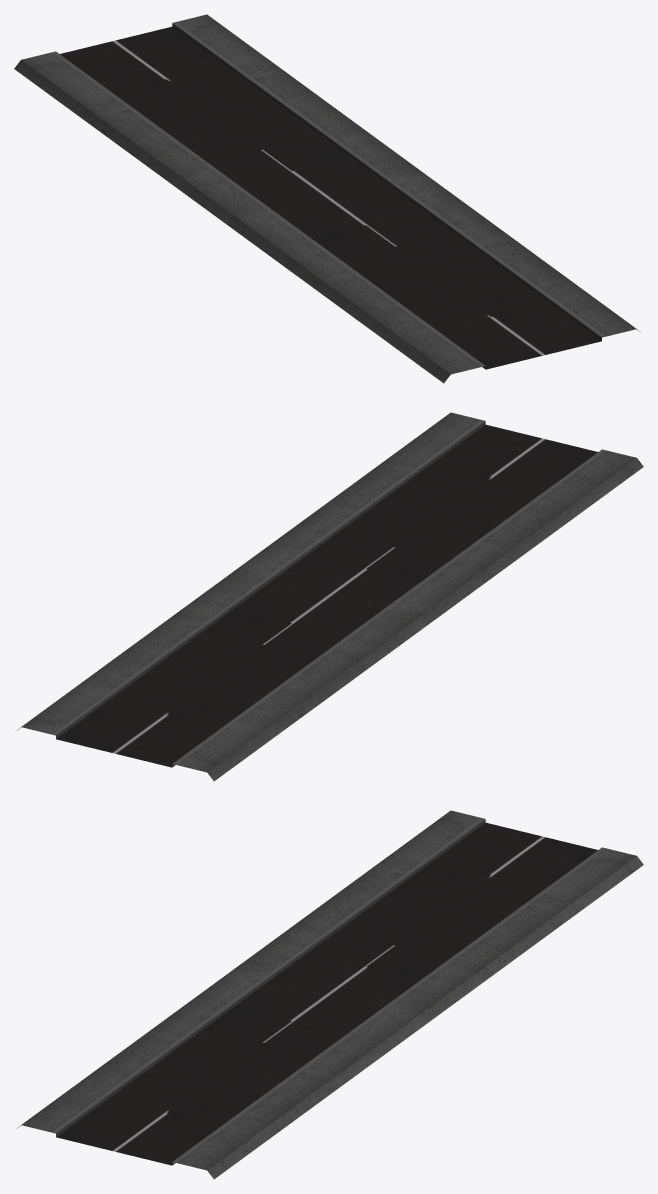
The model's file is RJs_Road 1+1 Basic Segment_OW.fbx.
3 views of the same model, one above another, from view 1: azimuth 30°, elevation 25°; view 2: azimuth 150°, elevation 25°; view 3: azimuth 330°, elevation 25° (orthographic).
Parts seen in each view (by area): view 1: plane; view 2: plane; view 3: plane.
Boxes of the visible parts, bbox=[...] form: plane: bbox=[14, 14, 641, 383]; plane: bbox=[16, 412, 643, 781]; plane: bbox=[16, 810, 643, 1179].
Bounding box in the file's own units: 1720 × 60.1 × 6400.
